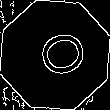O_W: (24, 26, 86, 84)
